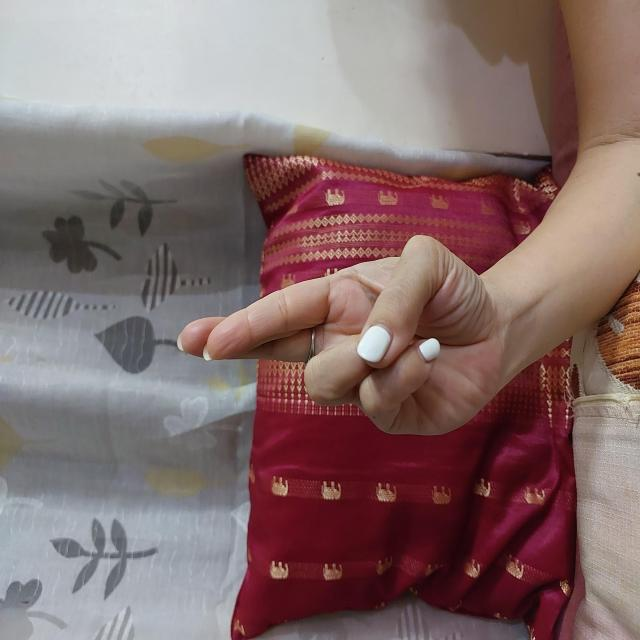R: (200, 174, 410, 506)
